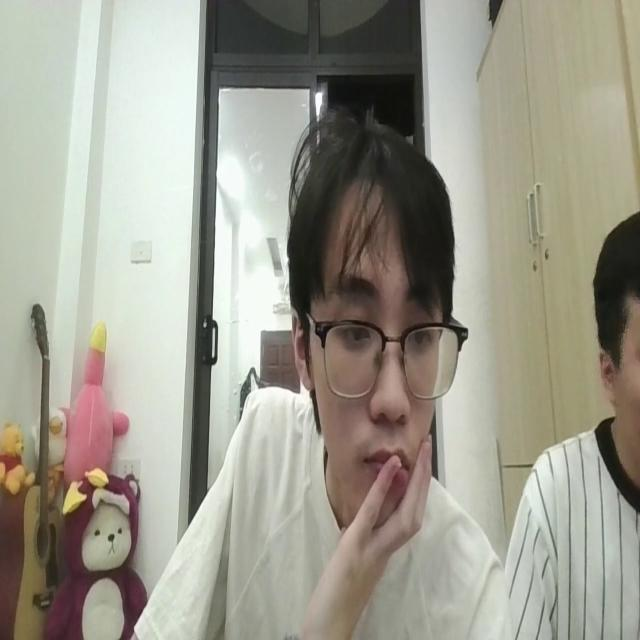extra_person: (513, 208, 640, 640)
student: (130, 102, 512, 640)
